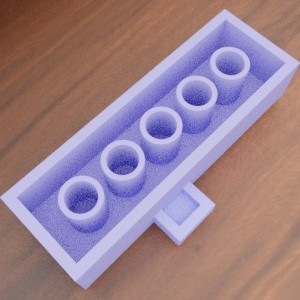lego: (0, 8, 299, 289), (142, 170, 215, 245)
